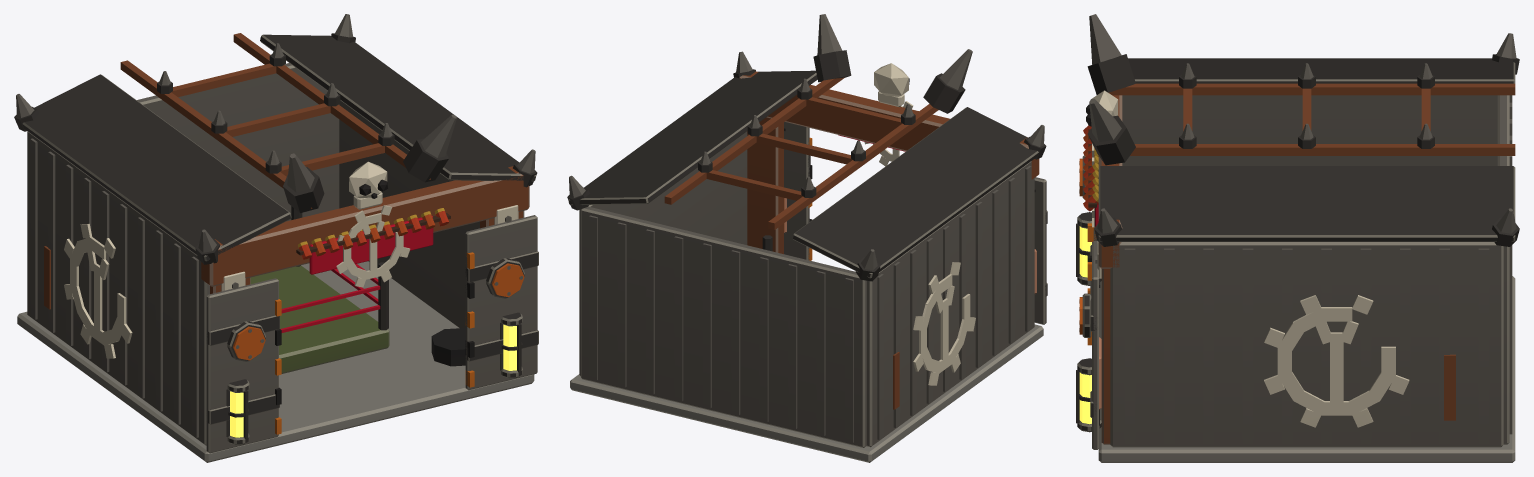
Rendered from bb_barracks.glb.
3 views of the same model, side by side, from view 1: azimuth 30°, elevation 25°; view 2: azimuth 150°, elevation 25°; view 3: azimuth 270°, elevation 25° (orthographic). The views are drawn at different scales.
Visible parts, largest first — view 1: bb_barracks; view 2: bb_barracks; view 3: bb_barracks.
Part boxes in pixels (x1,y1,x2,y2): bb_barracks: (14, 14, 538, 462); bb_barracks: (567, 14, 1047, 462); bb_barracks: (1076, 14, 1519, 462).
Size of the model in its own units: 7.15 by 5.92 by 7.45.
